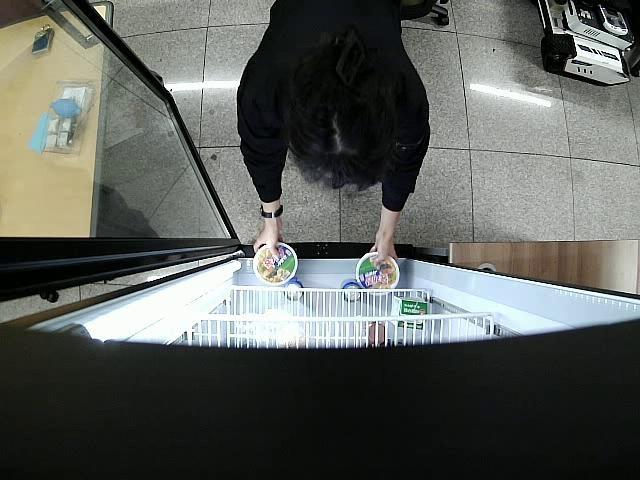09_yukGaeJang: (251, 243, 298, 288), (356, 252, 400, 296)
